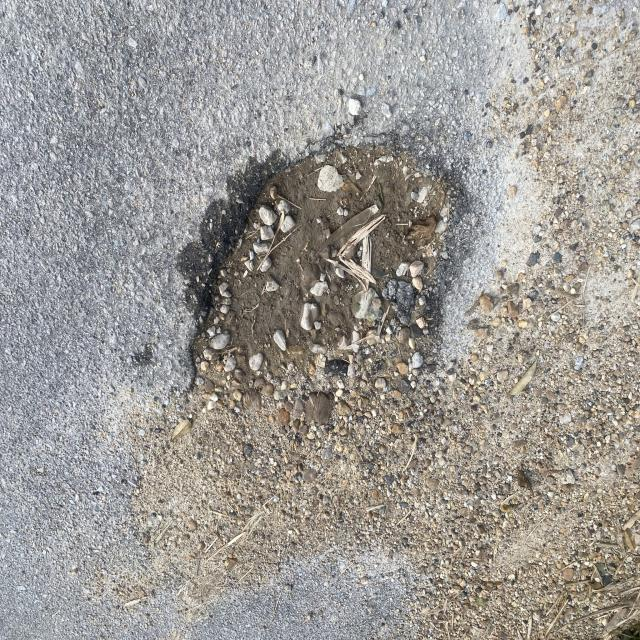pothole: (139, 96, 555, 550)
